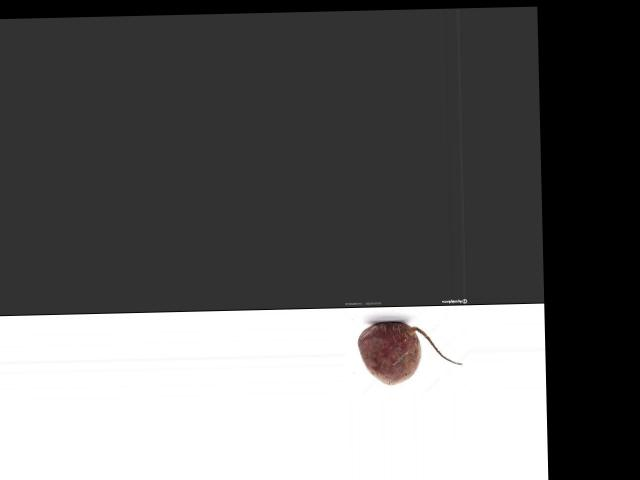beet: (357, 319, 462, 384)
